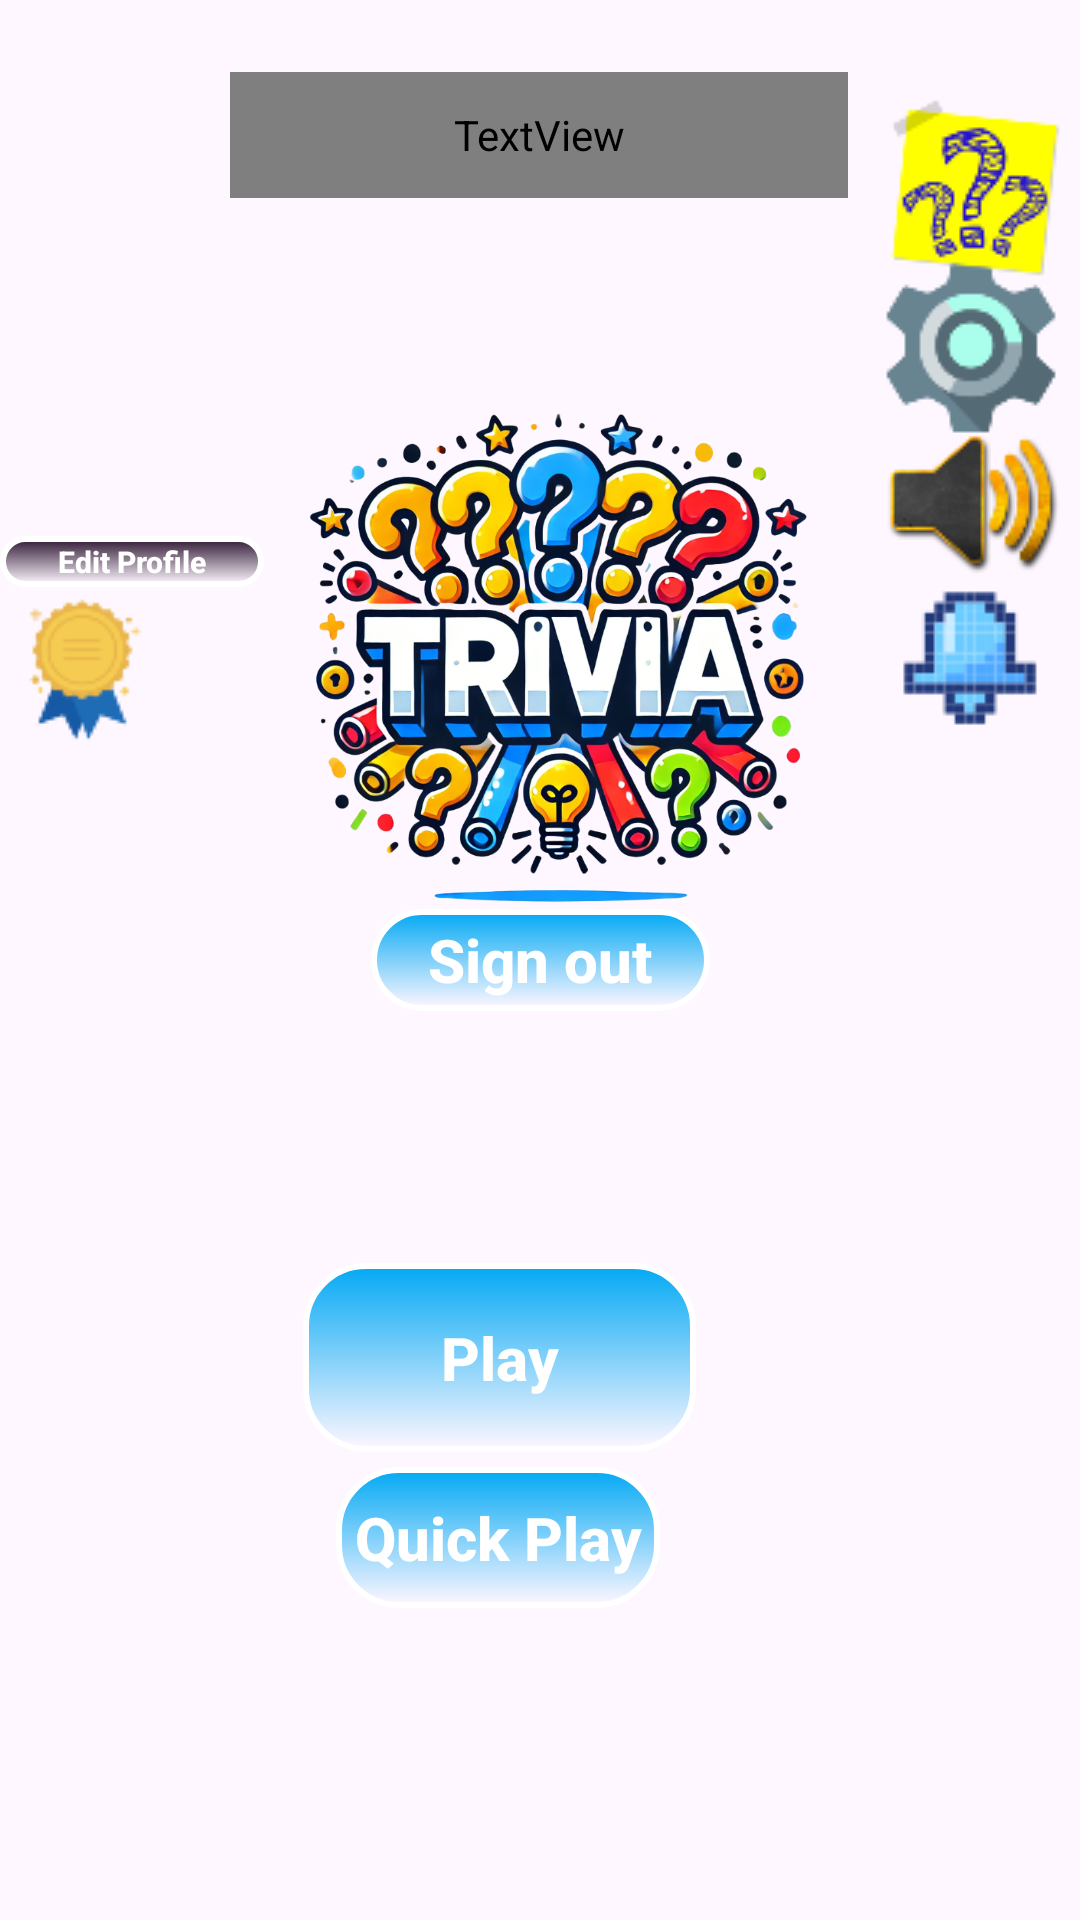

Where icons sit on this 1080px×1920px app screen, as {"left": x1, "top": y1, "right": x2, "bottom": y2}:
android studio medal: {"left": 29, "top": 599, "right": 141, "bottom": 739}
android studio volume on: {"left": 890, "top": 436, "right": 1057, "bottom": 571}
cartoon notifx: {"left": 903, "top": 591, "right": 1037, "bottom": 725}
hint question mark: {"left": 890, "top": 101, "right": 1058, "bottom": 282}
